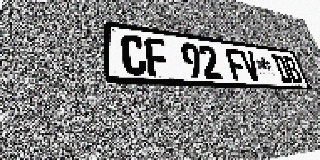2: (198, 44, 223, 80)
9: (180, 42, 205, 79)
B: (282, 56, 304, 84)
C: (121, 34, 148, 76)
D: (271, 54, 293, 83)
F: (144, 37, 171, 77), (224, 48, 249, 81)
V: (239, 50, 263, 82)
